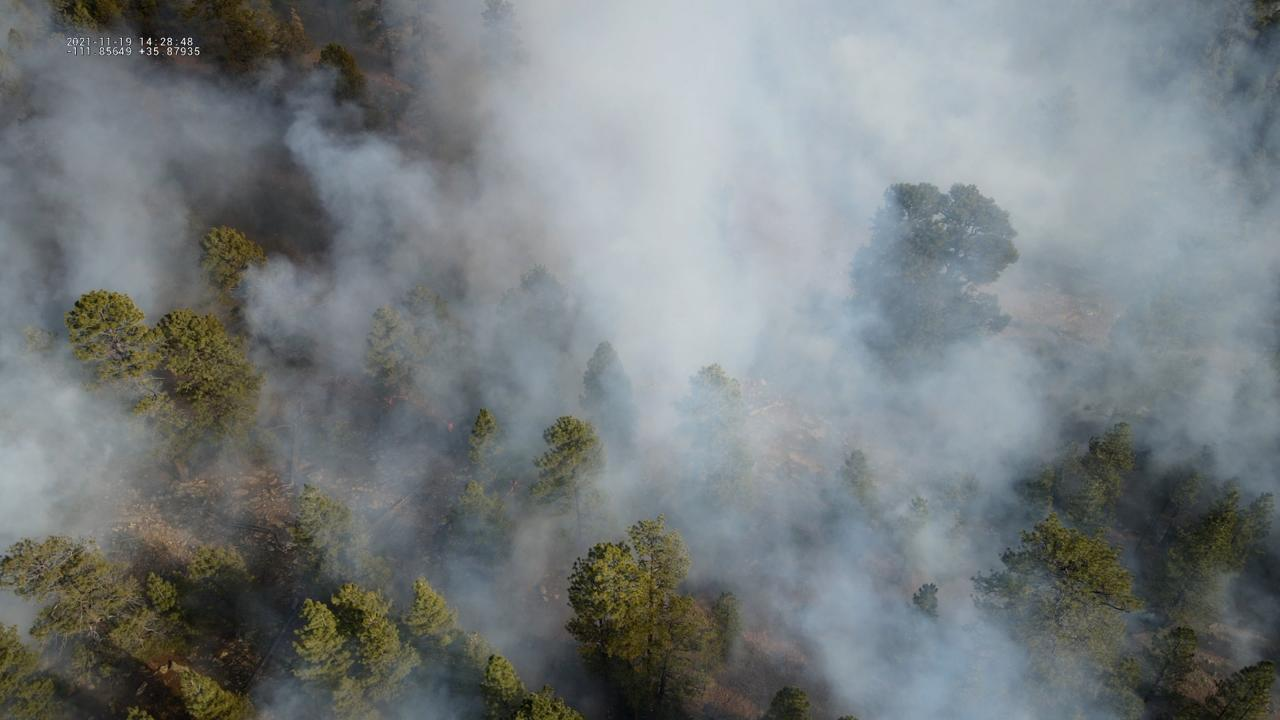fire: (381, 393, 407, 409), (447, 422, 454, 434)
smoke: (0, 0, 1280, 720)
